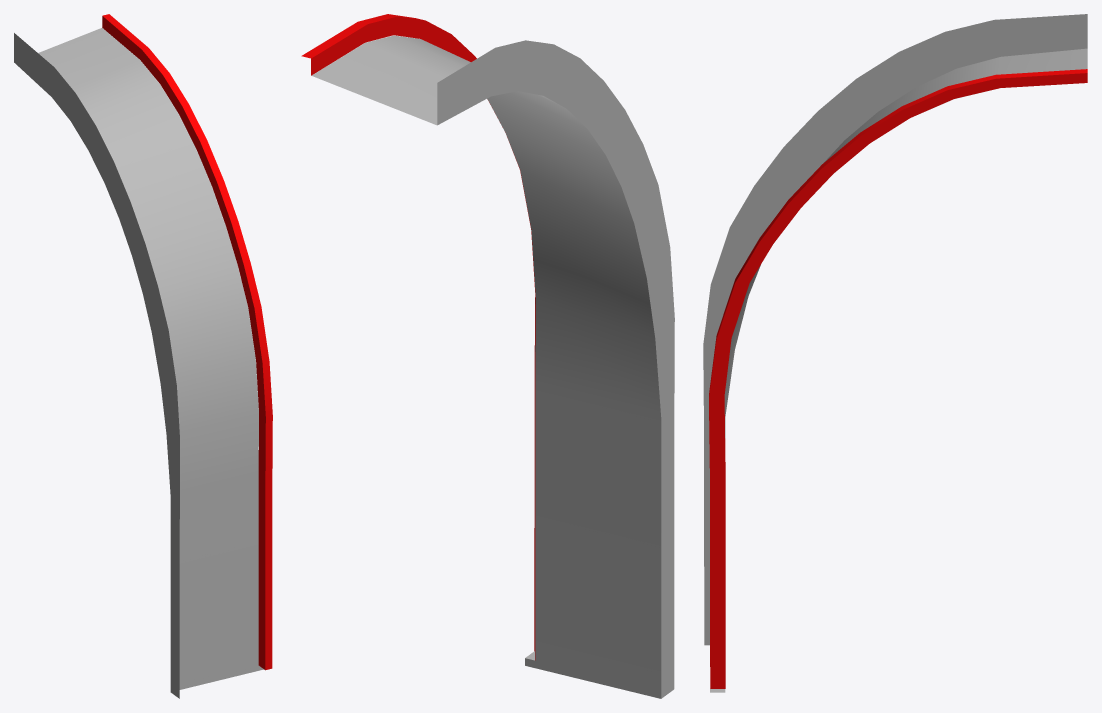
File: RightWallDraco.ca62b60b.glb
3 views of the same model, side by side, from view 1: azimuth 30°, elevation 25°; view 2: azimuth 150°, elevation 25°; view 3: azimuth 270°, elevation 25° (orthographic). The views are drawn at different scales.
Visible parts, largest first — view 1: Right_wall; view 2: Right_wall; view 3: Right_wall.
Boxes of the visible parts, box(x1,y1,x2,y2) form: Right_wall: box(14, 14, 272, 698); Right_wall: box(301, 14, 674, 698); Right_wall: box(703, 14, 1087, 692).
Bounding box in the file's own units: 3.04 × 16.66 × 9.2.
